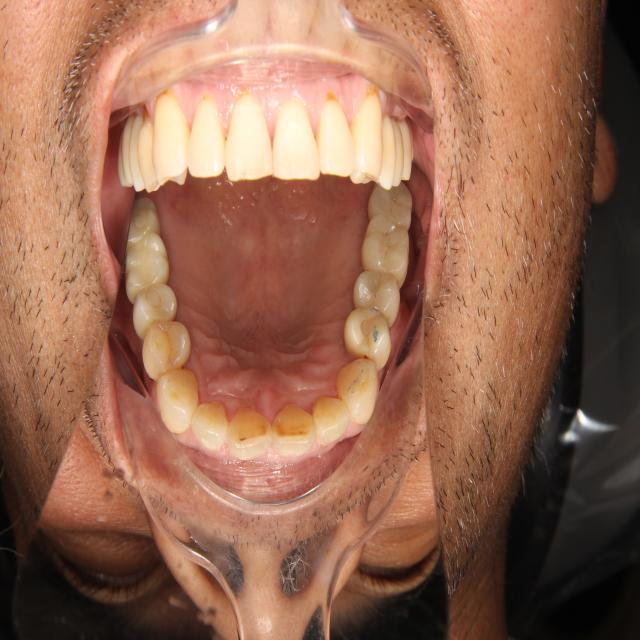tooth: (146, 354, 208, 445), (132, 313, 200, 395), (222, 393, 278, 477), (184, 387, 235, 467), (360, 212, 413, 286), (343, 302, 395, 377), (350, 261, 406, 330), (123, 231, 172, 309), (265, 396, 320, 461), (126, 282, 185, 342), (336, 357, 384, 427), (363, 178, 416, 236), (309, 392, 355, 452), (125, 195, 164, 257)
